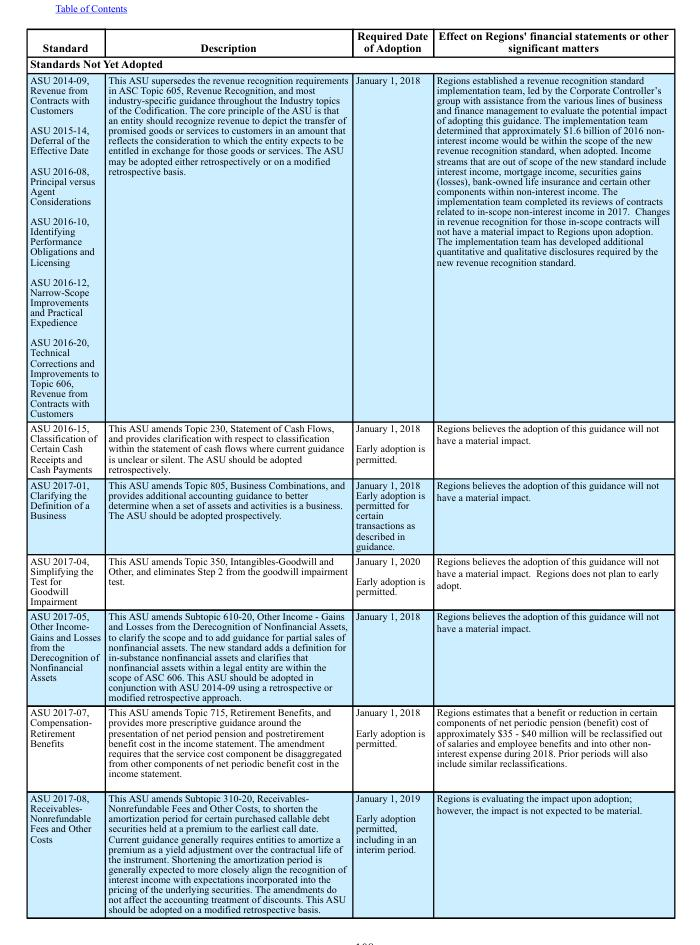table: (29, 29, 668, 914)
table column: (103, 29, 351, 914), (431, 29, 668, 914), (351, 29, 431, 914), (29, 29, 103, 914)
table column header: (29, 29, 668, 54)
table projected row header: (29, 54, 668, 71)
table row: (29, 71, 668, 420), (29, 785, 668, 914), (29, 608, 668, 704), (29, 704, 668, 785), (29, 476, 668, 552), (29, 420, 668, 476), (29, 552, 668, 608), (29, 29, 668, 54), (29, 54, 668, 71)
